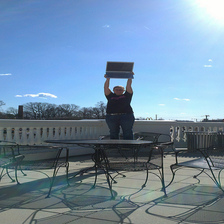laptop: (95, 58, 140, 83)
